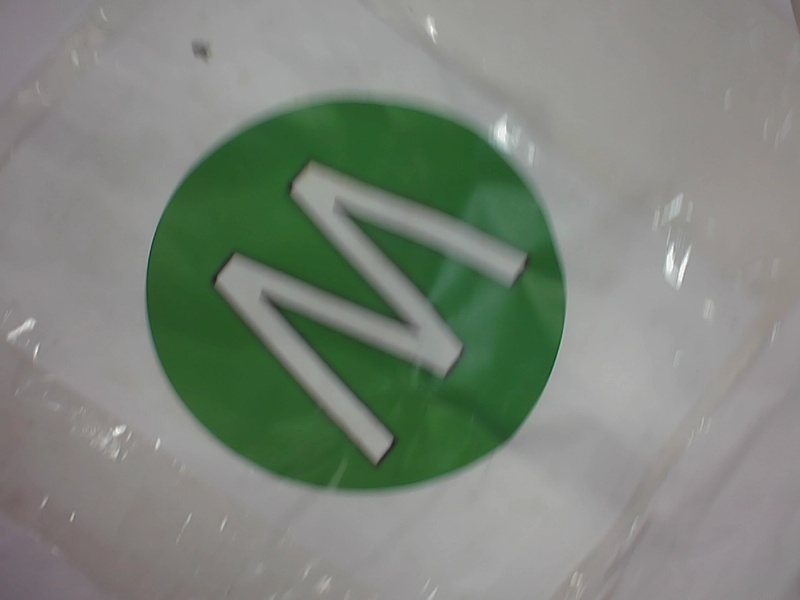areaB: (137, 88, 576, 500)
